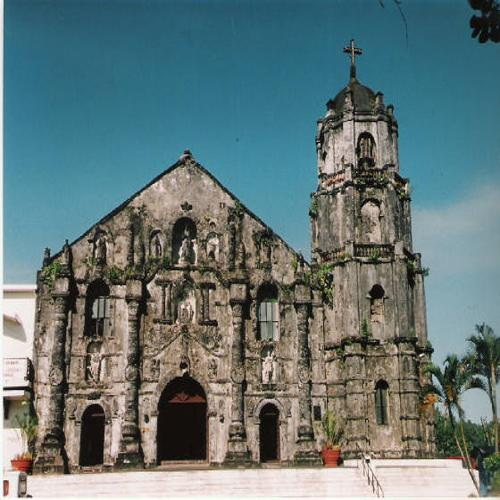Daraga Church: (37, 34, 440, 460)
